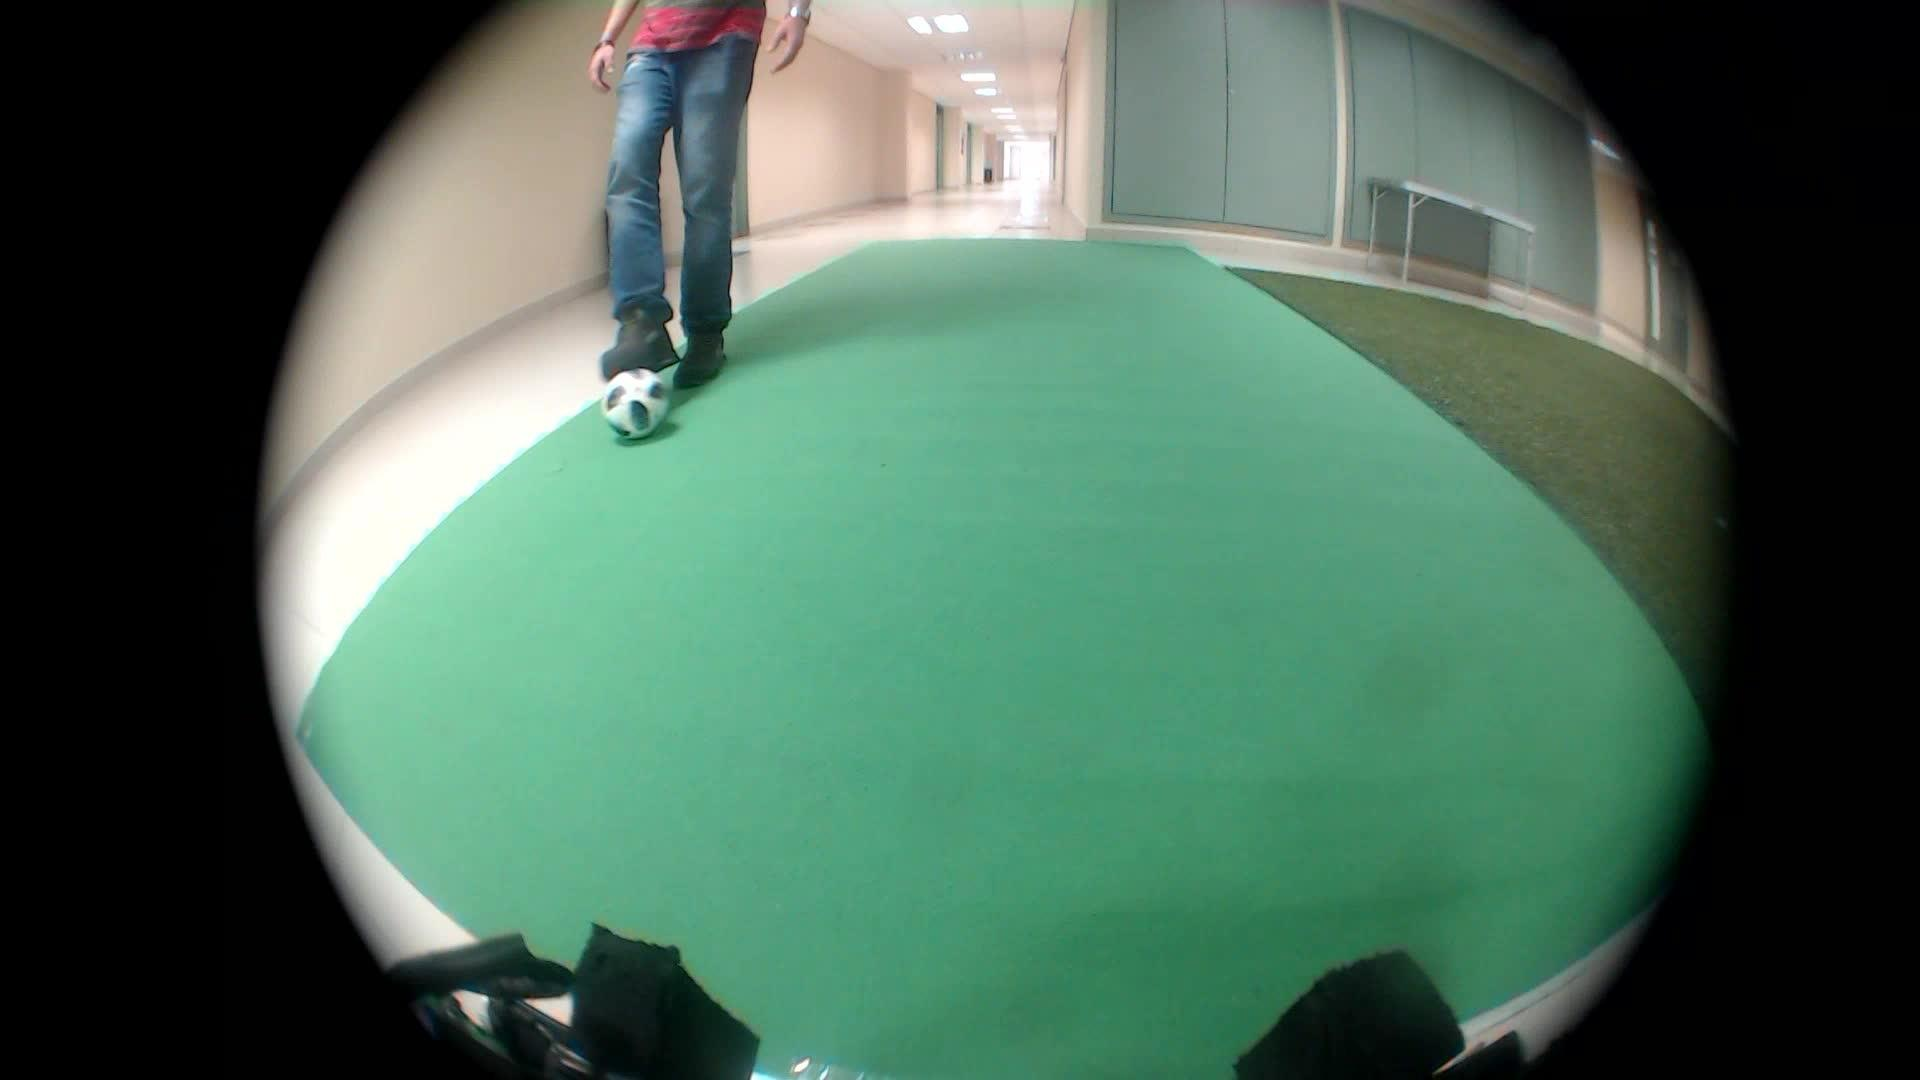ball: (589, 367, 676, 444)
